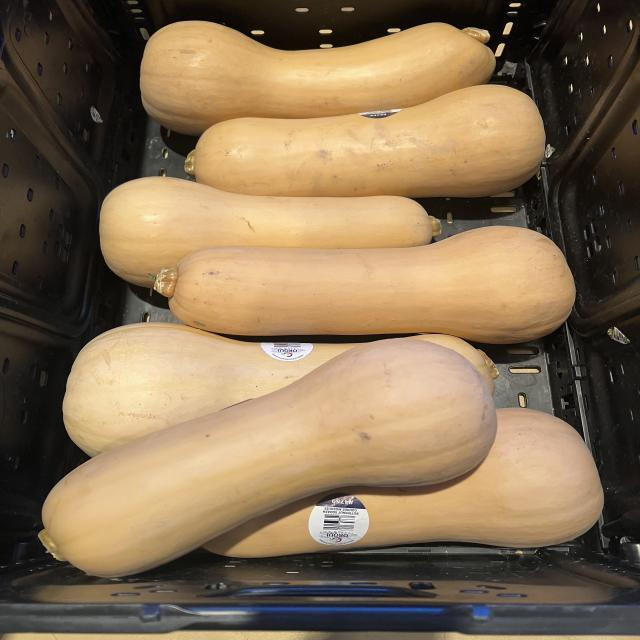Squash: (40, 339, 497, 576), (203, 409, 603, 558), (153, 226, 575, 344), (185, 85, 545, 198), (140, 21, 495, 135), (63, 322, 360, 456), (100, 176, 442, 286), (412, 334, 498, 392)
